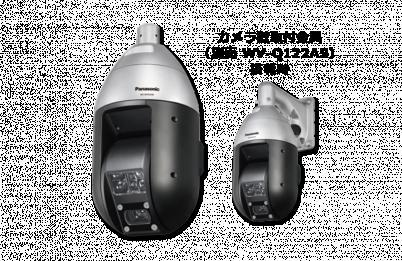maru: (92, 23, 207, 238)
